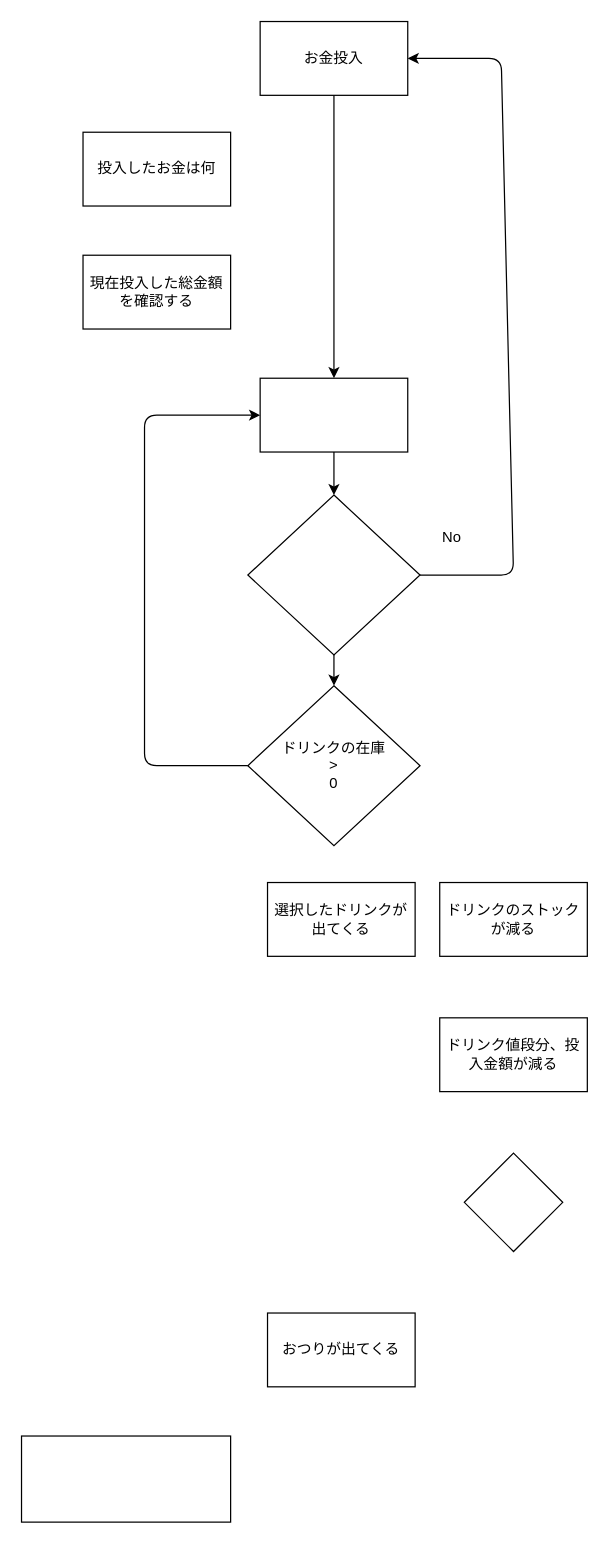
Image size: 609x1544. Some labels were removed from this diagram. The box of each missing label's shape, as (x1, y1, x2, y2) in pixels:
まだ購入するか確認: (463, 1152, 563, 1252)
投入した金額 >= ドリンクの値段？: (247, 494, 420, 655)
投入金額分、払い戻す: (20, 1435, 231, 1522)
買いたいドリンクを選択する: (259, 377, 408, 452)
